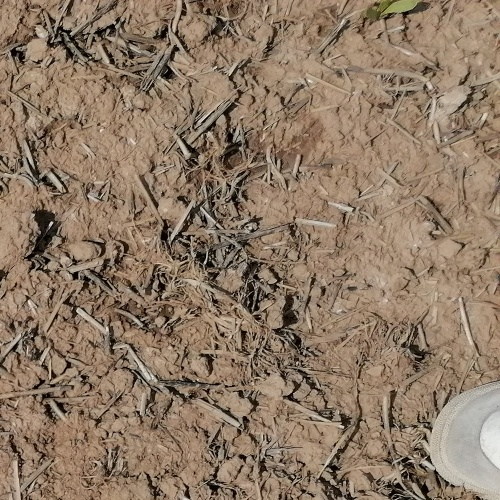beet: (366, 0, 423, 22)
